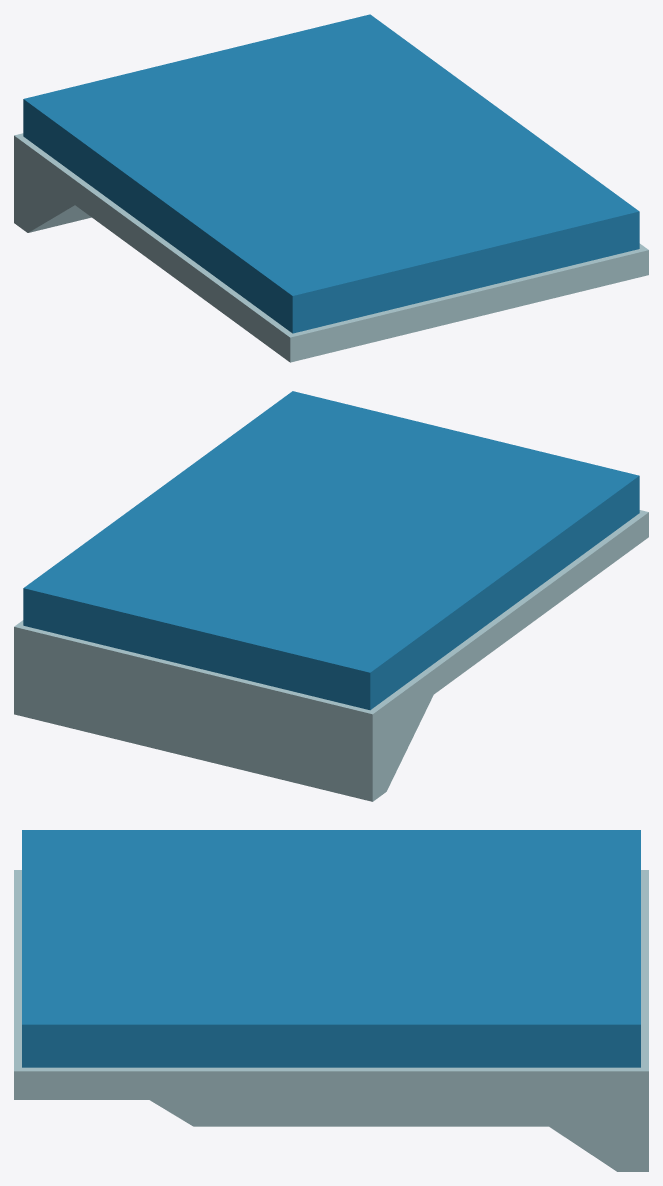
The model's file is MedBay-bed.glb.
3 views of the same model, one above another, from view 1: azimuth 30°, elevation 25°; view 2: azimuth 150°, elevation 25°; view 3: azimuth 270°, elevation 25° (orthographic). The views are drawn at different scales.
Visible parts, largest first — view 1: Cube, Cube.001; view 2: Cube, Cube.001; view 3: Cube, Cube.001.
Part boxes in pixels (x1=…): Cube: x1=23, y1=14, x2=639, y2=333; Cube.001: x1=14, y1=133, x2=648, y2=362; Cube: x1=23, y1=391, x2=639, y2=710; Cube.001: x1=14, y1=510, x2=648, y2=801; Cube: x1=22, y1=830, x2=640, y2=1067; Cube.001: x1=14, y1=870, x2=648, y2=1171.
Size of the model in its own units: 6 by 2 by 8.
